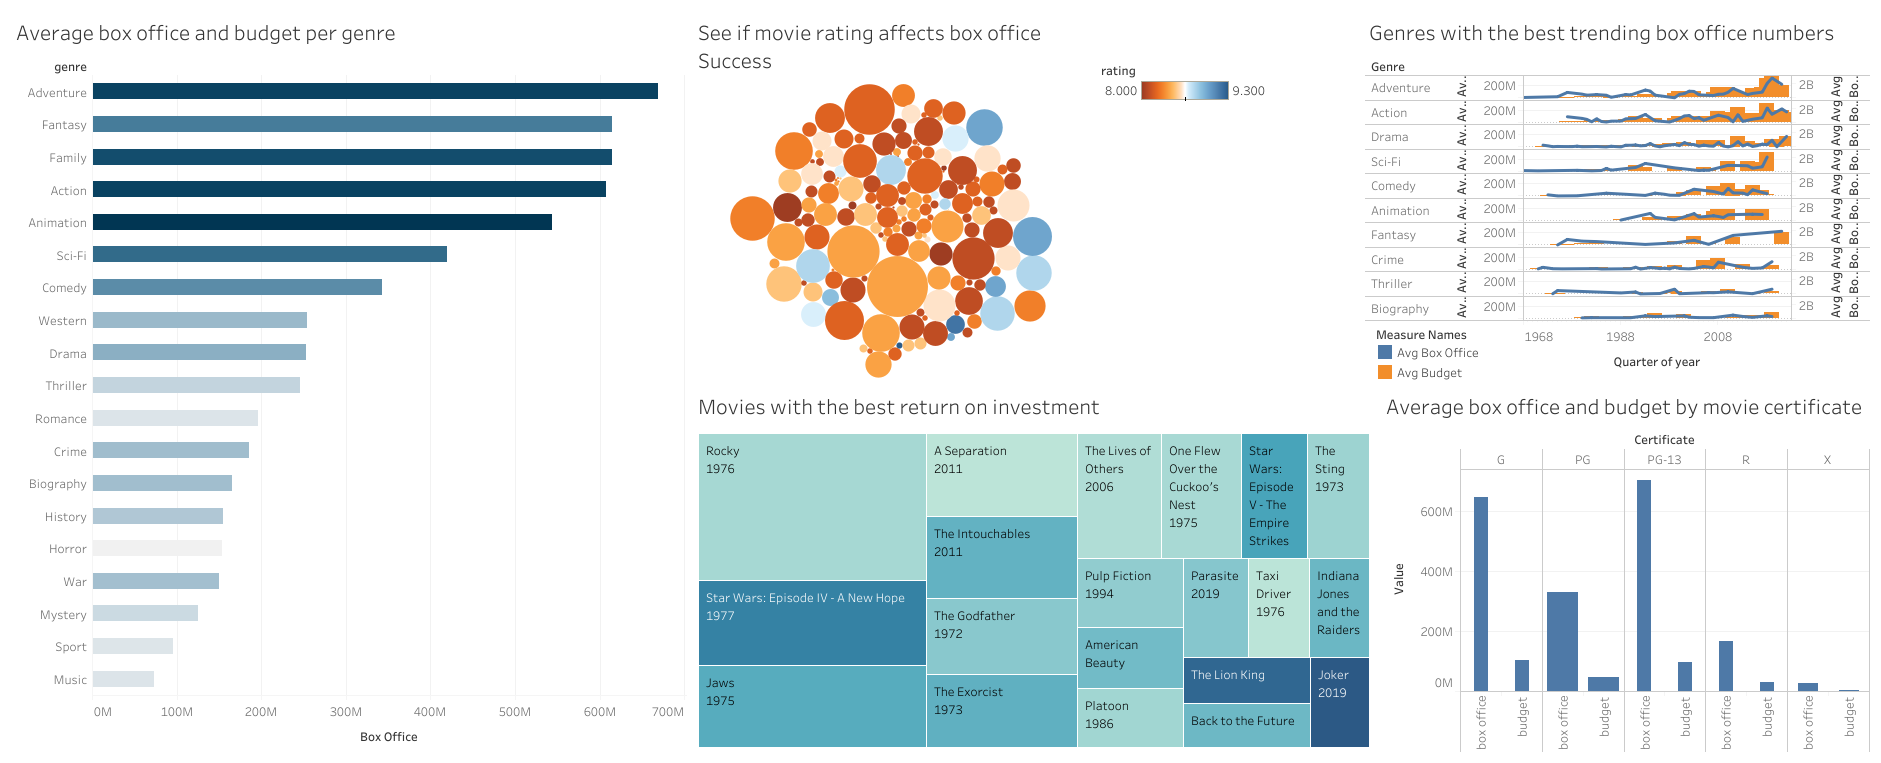

This screenshot's page, from the dashboard's own definition file:
{"tool":"tableau","page":{"name":"Dashboard 1","canvas":[1000,1000],"units":"permille","ordinal":0},"visuals":[{"type":"worksheet","title":"Sheet 1","mark":"Automatic","rows":["F1"],"cols":["F4"],"box":[4.7,10.8,362.2,978.5]},{"type":"worksheet","title":"Sheet 3","mark":"Circle","box":[366.9,10.8,356.2,489]},{"type":"worksheet","title":"Sheet 4","mark":"Automatic","rows":["F1","F3","F4"],"cols":["F2"],"box":[723.1,10.8,272.2,489]},{"type":"legend","title":"Sheet 3","param":"[federated.02rjx2m0xq2k1q1glkz1r0ow4g4t].[sum:F1 (see if a higher rated movie ma","box":[585.1,74,89.6,107.7]},{"type":"legend","title":"Sheet 4","param":"[federated.08v1d901nyju2k16mo29x0jqay7n].[:Measure Names]","box":[730.7,422.6,89.6,79.4]},{"type":"worksheet","title":"Sheet 5","mark":"Automatic","box":[366.9,499.8,364.8,489.5]},{"type":"worksheet","title":"Sheet 2","mark":"Automatic","cols":["F1"],"box":[731.7,499.8,263.6,489.5]}]}

Visuals, with their boxes on the dashboard's canvas, which has no fixed pixel size, in thousandths of its width and height (x1, y1, x2, y2). These are canvas units, not pixel positions in the 1881x763 screenshot, which may show the page scaled, cropped or inside an application window:
"Sheet 1" worksheet: 5, 11, 367, 989
"Sheet 3" worksheet (Circle marks): 367, 11, 723, 500
"Sheet 4" worksheet: 723, 11, 995, 500
"Sheet 3" legend: 585, 74, 675, 182
"Sheet 4" legend: 731, 423, 820, 502
"Sheet 5" worksheet: 367, 500, 732, 989
"Sheet 2" worksheet: 732, 500, 995, 989
